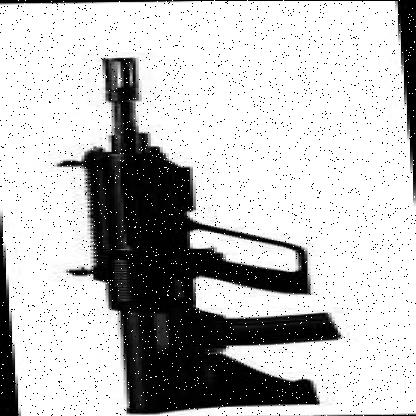rifle: (64, 52, 356, 414)
